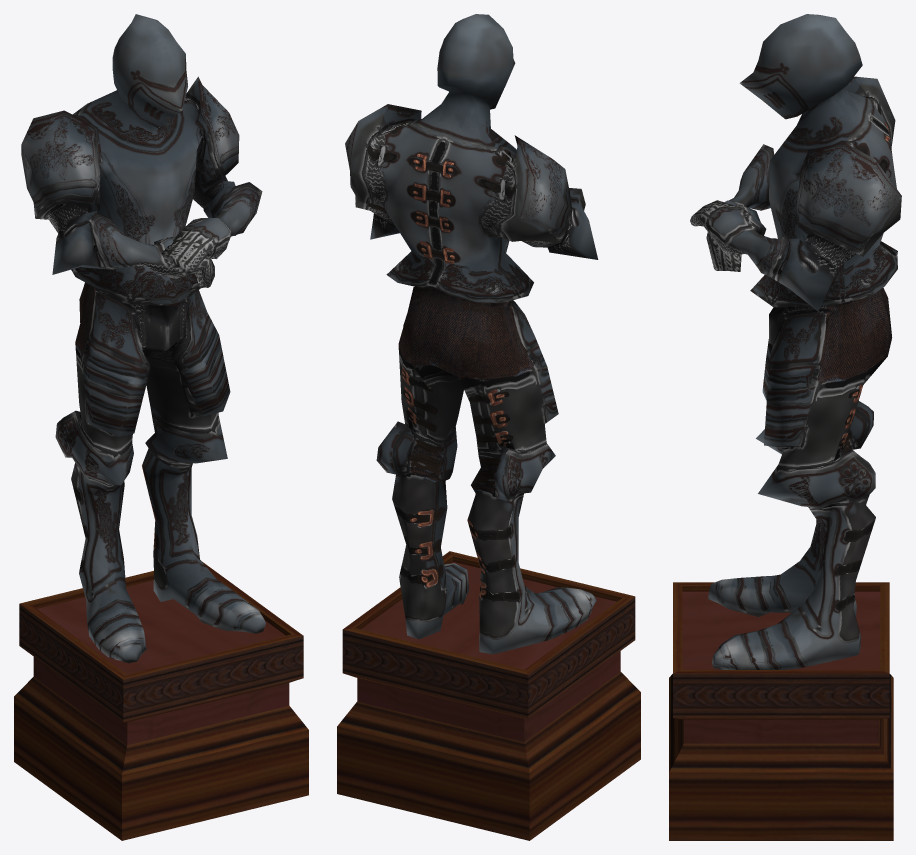
Rendered from Suit of ArmornoSword.fbx.
The picture shows the model from 3 angles, left to right: view 1: azimuth 30°, elevation 25°; view 2: azimuth 150°, elevation 25°; view 3: azimuth 270°, elevation 25°; orthographic projection. The views are drawn at different scales.
Visible parts, largest first — view 1: Knight in armornoSword_LOD0; view 2: Knight in armornoSword_LOD0; view 3: Knight in armornoSword_LOD0.
Boxes of the visible parts, x1,y1,x2,y2 form: Knight in armornoSword_LOD0: [14, 14, 308, 840]; Knight in armornoSword_LOD0: [337, 14, 640, 840]; Knight in armornoSword_LOD0: [669, 14, 901, 840].
Size of what is drawn, in the model's own units: 71.43 by 246 by 66.46.
